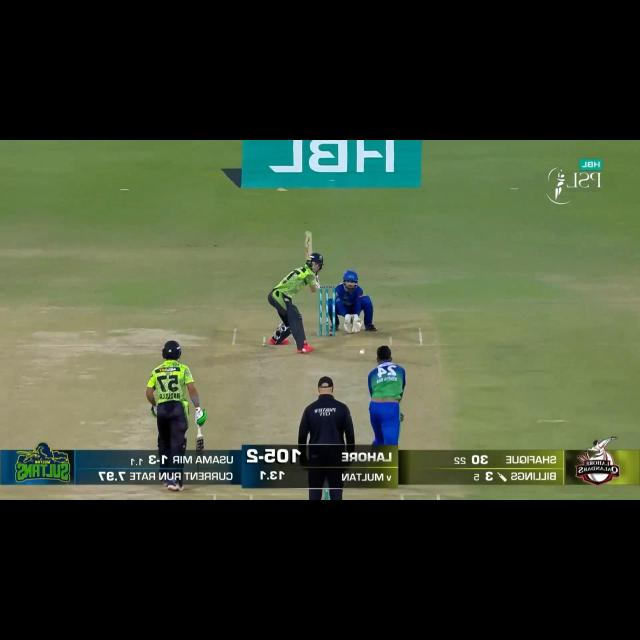bat: (302, 229, 314, 257), (196, 432, 204, 450)
toe: (304, 230, 315, 239)
